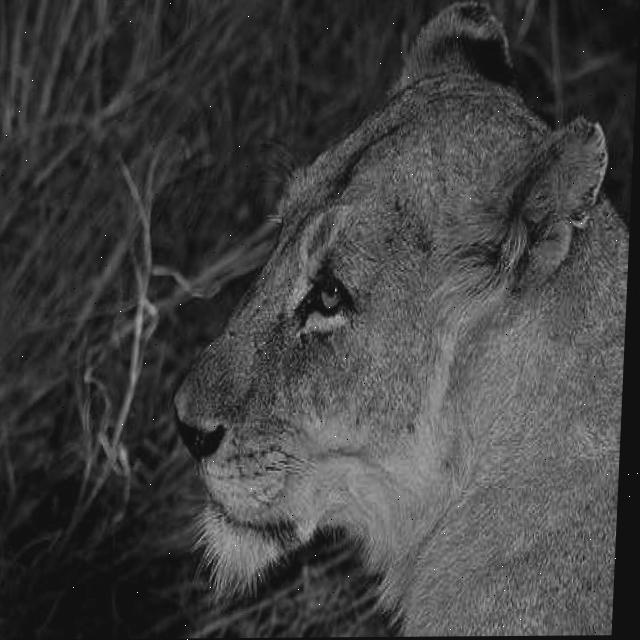Lion: (143, 18, 630, 606)
